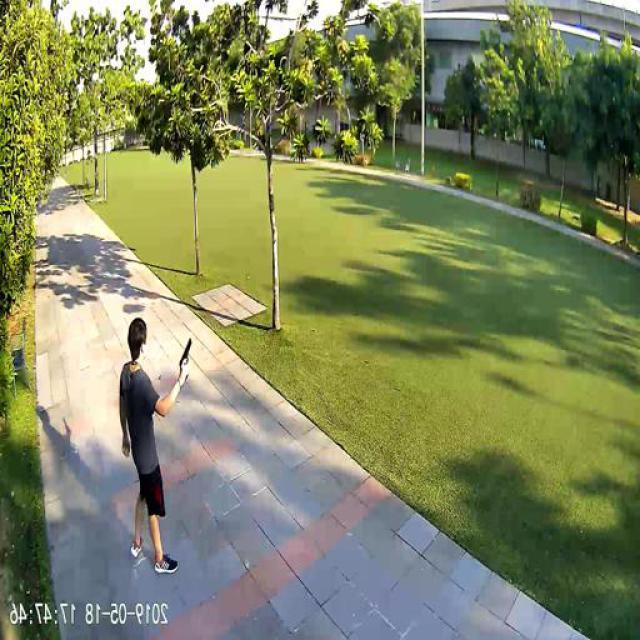Gun: (180, 334, 195, 365)
